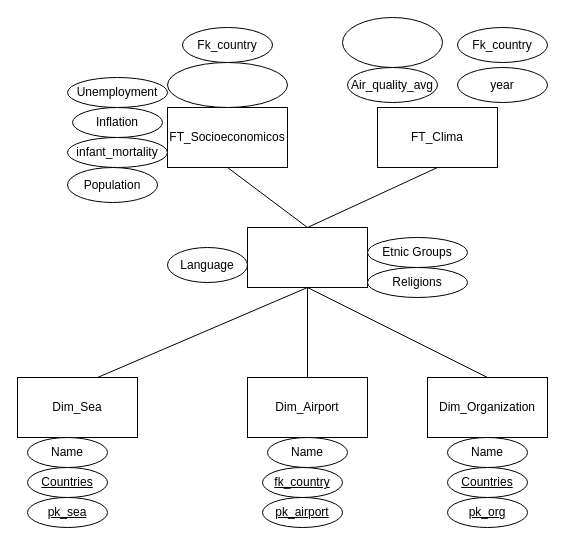
This 565x545 diagram has some shape labels left out. Here are the shapes that lost their labels. From the top down, the centre of each, then its label:
the point at 392,42: Precipitation_avg
the point at 227,85: Todos os Atributos do CSV hapiness
the point at 307,257: Dim_Country
